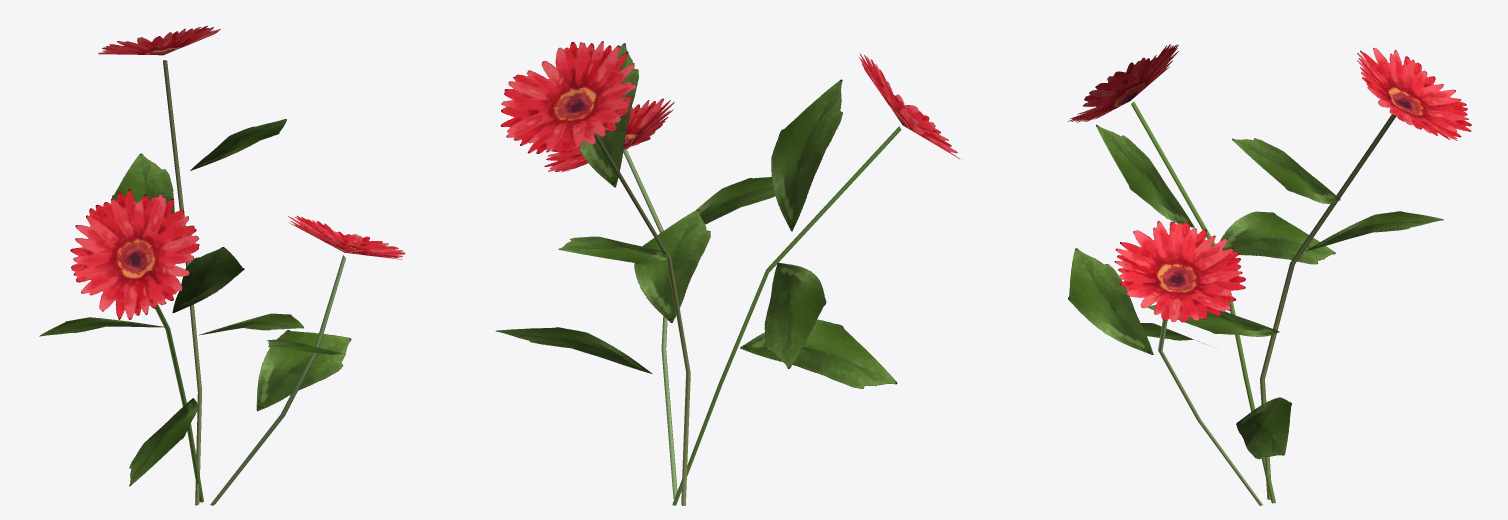
The picture shows the model from 3 angles, left to right: view 1: azimuth 30°, elevation 25°; view 2: azimuth 150°, elevation 25°; view 3: azimuth 270°, elevation 25°; orthographic projection. The views are drawn at different scales.
Visible parts, largest first — view 1: F12-1; view 2: F12-1; view 3: F12-1.
Part boxes in pixels (x1=…): F12-1: x1=39, y1=26, x2=405, y2=505; F12-1: x1=496, y1=41, x2=962, y2=505; F12-1: x1=1068, y1=44, x2=1471, y2=505.
Bounding box in the file's own units: 191 × 219 × 192.
